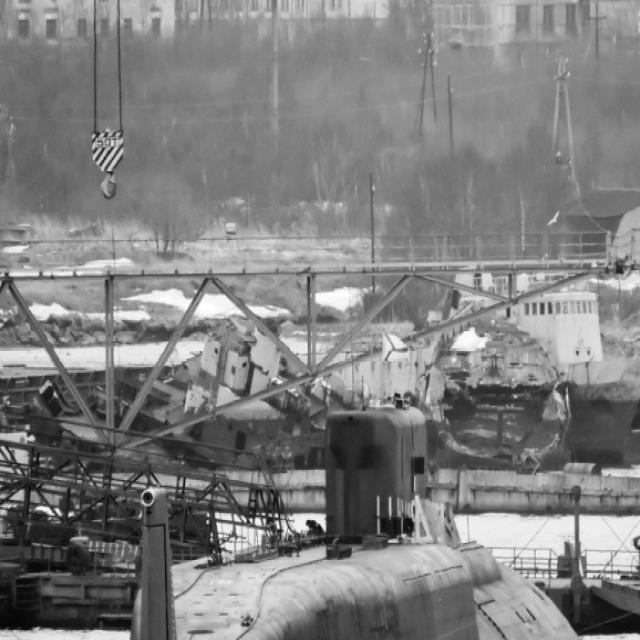submarine: (55, 399, 595, 640)
